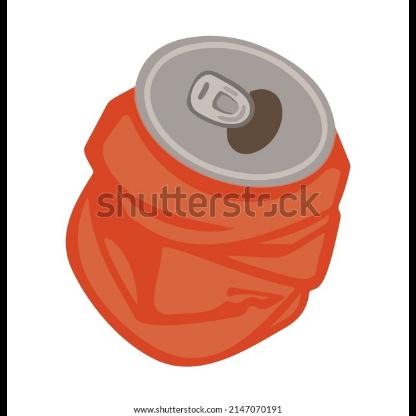Dent_Can: (73, 138, 343, 332)
Lid_Open: (184, 58, 310, 152)
Tin_Can: (70, 34, 354, 354)
